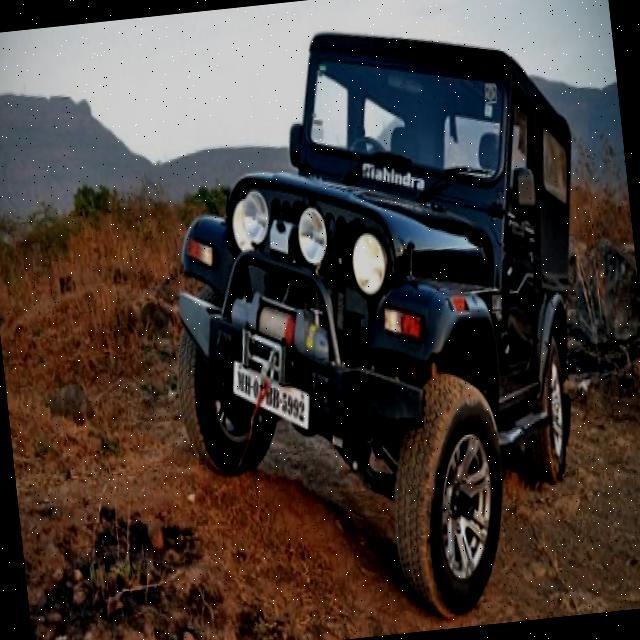Autre: (229, 360, 305, 436)
